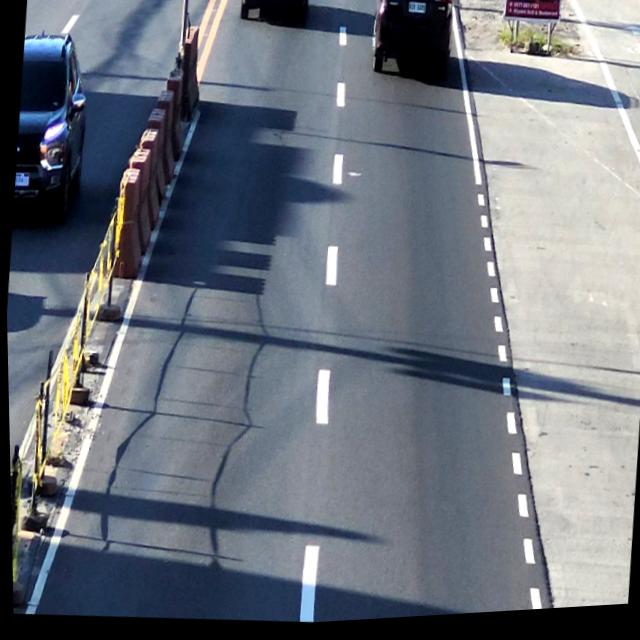Car: (364, 0, 457, 83), (237, 0, 314, 29)
License-Plate: (407, 3, 427, 22)
